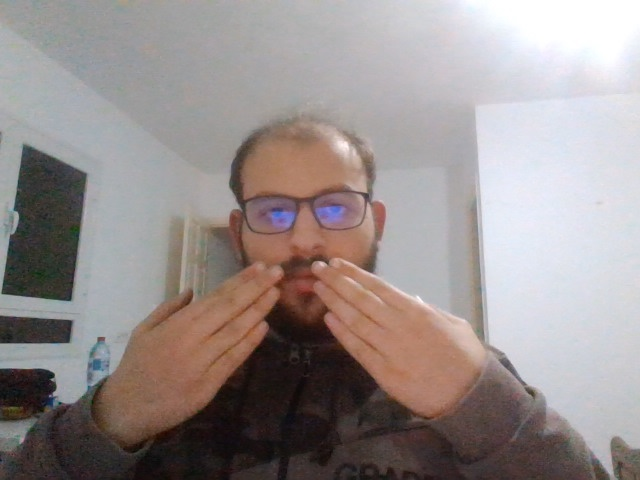Thank You: (132, 265, 467, 411)
